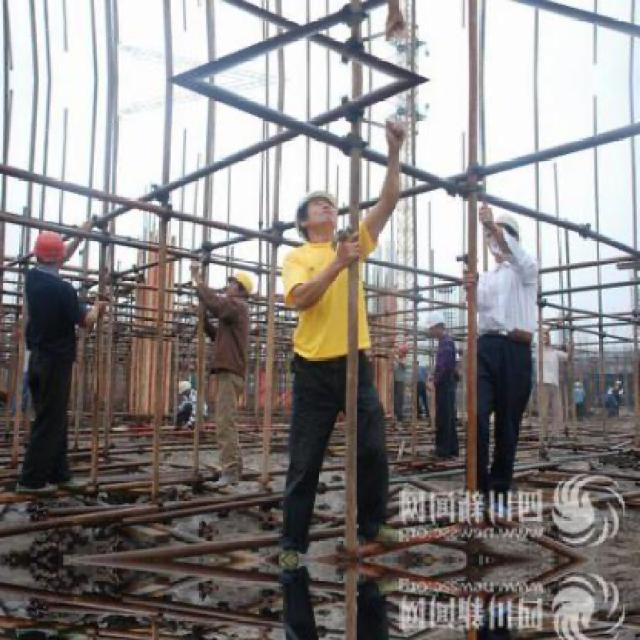con casco: (274, 170, 388, 278), (445, 206, 566, 296), (192, 246, 290, 318), (0, 218, 88, 297)
